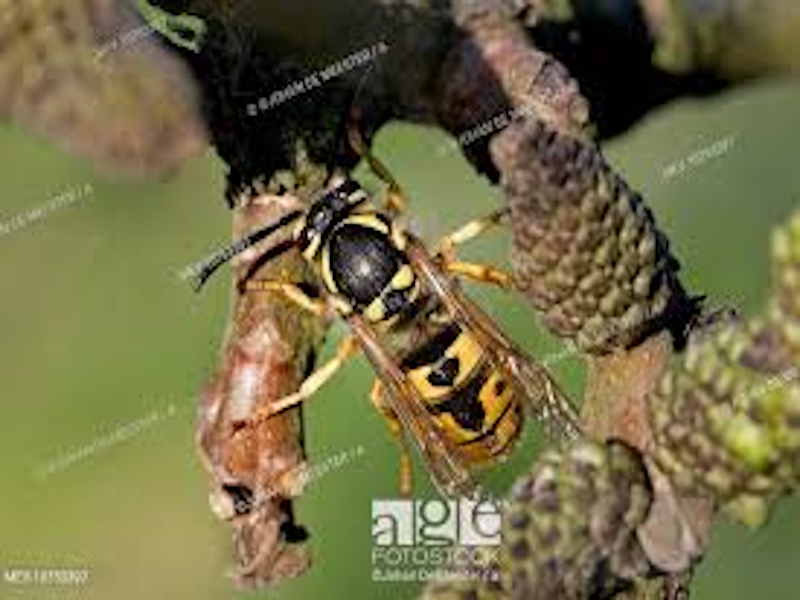chax: (223, 136, 596, 513)
